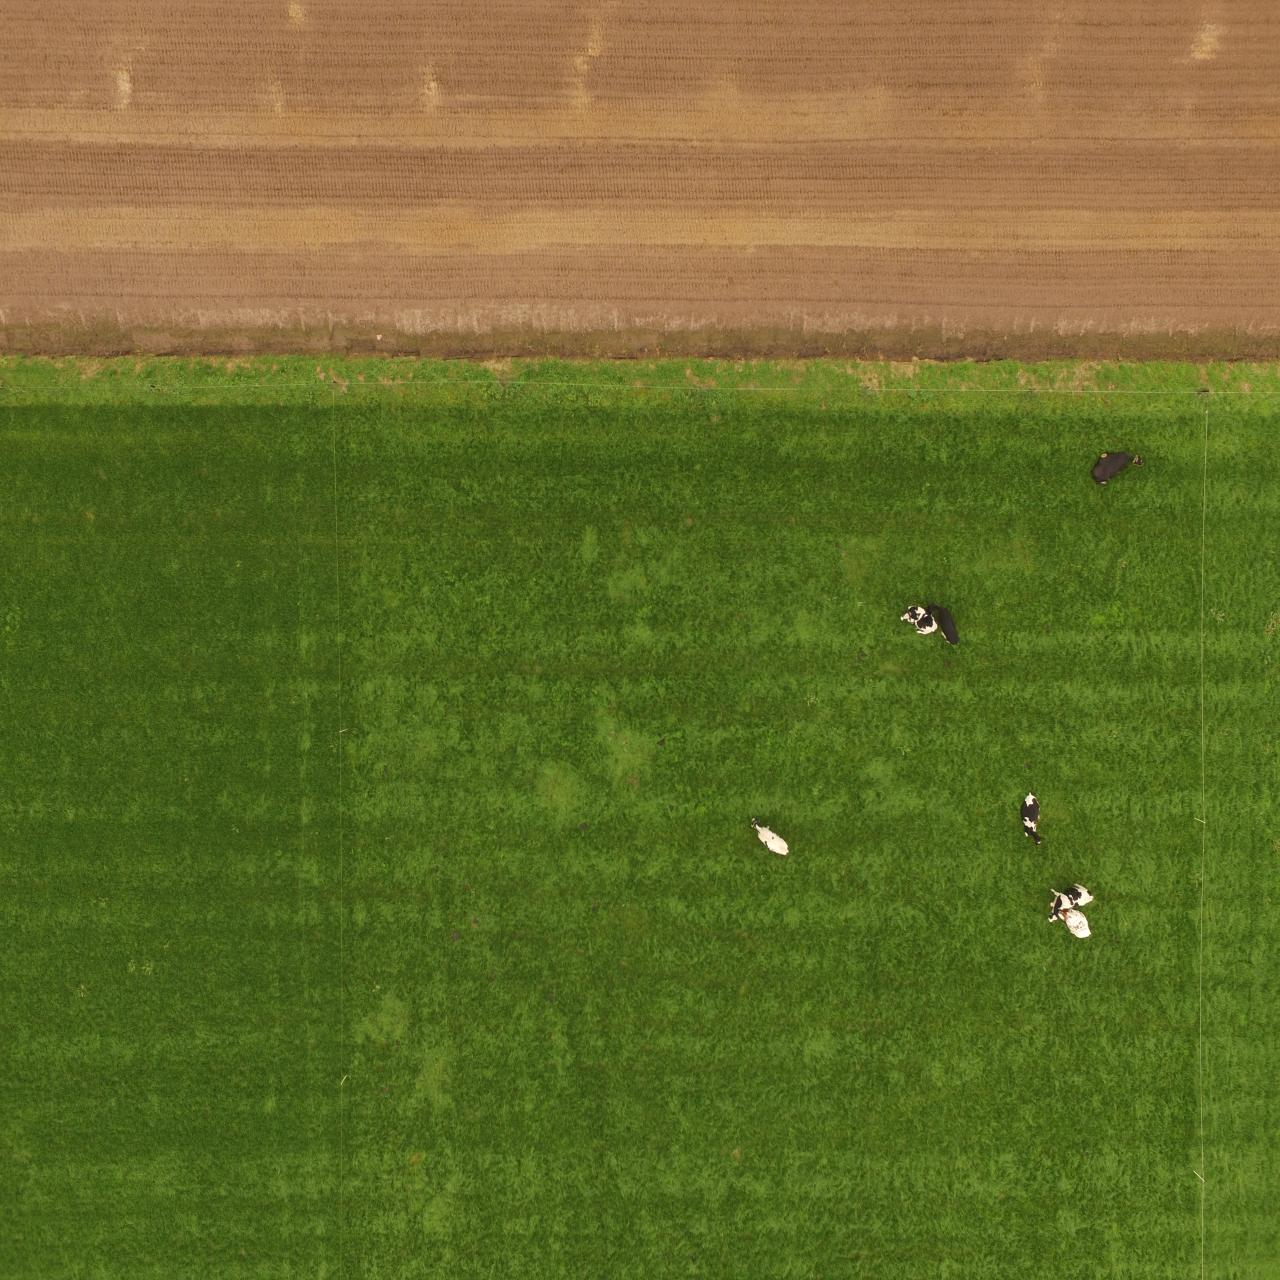cow: (1089, 444, 1143, 488), (1019, 790, 1051, 847), (1051, 906, 1099, 944), (751, 818, 791, 859), (931, 600, 965, 648), (1047, 880, 1097, 908), (904, 605, 937, 638)
